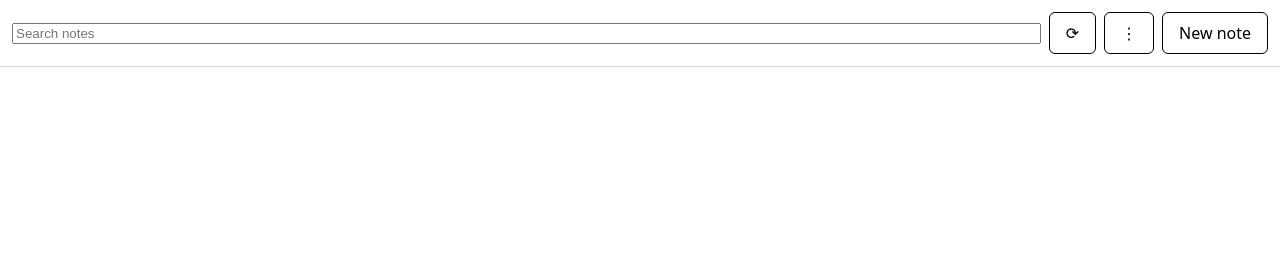
Scenario: NoteList › opens the overflow menu and shows Trash, Auto sync and sign-out items
Click the button named "Menu": (1129, 33) 1104,12 -> 1154,54
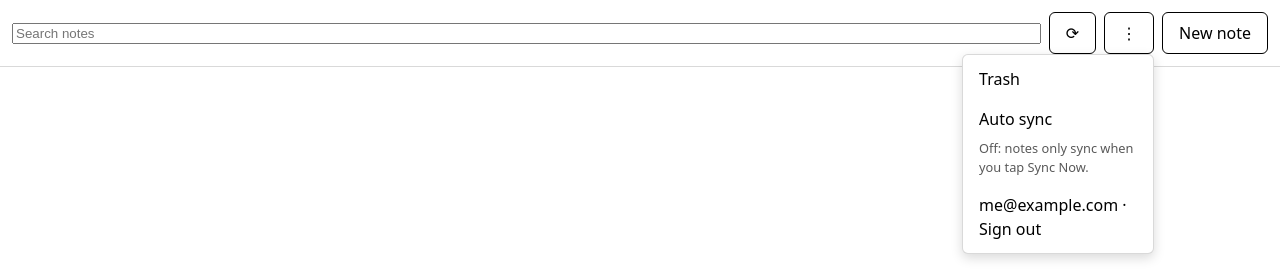
Expected: the menu item "Trash" is shown, 967,59 -> 1149,99
Expected: the menu item "Auto sync" is shown, 967,99 -> 1149,139
Expected: the menu item "me@example.com · Sign out" is shown, 967,185 -> 1149,249
